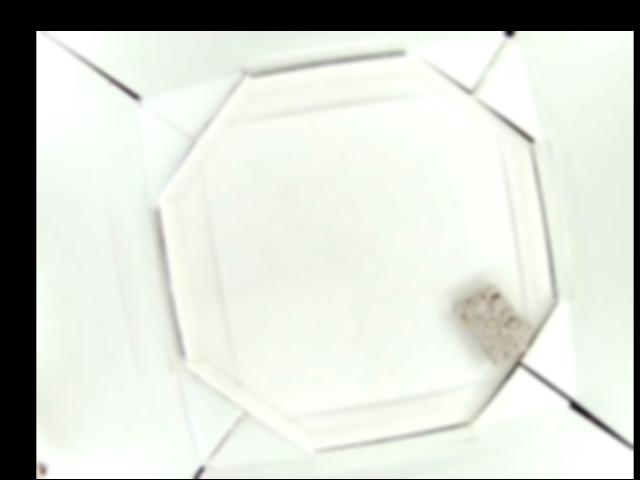China: (455, 284, 534, 362)
